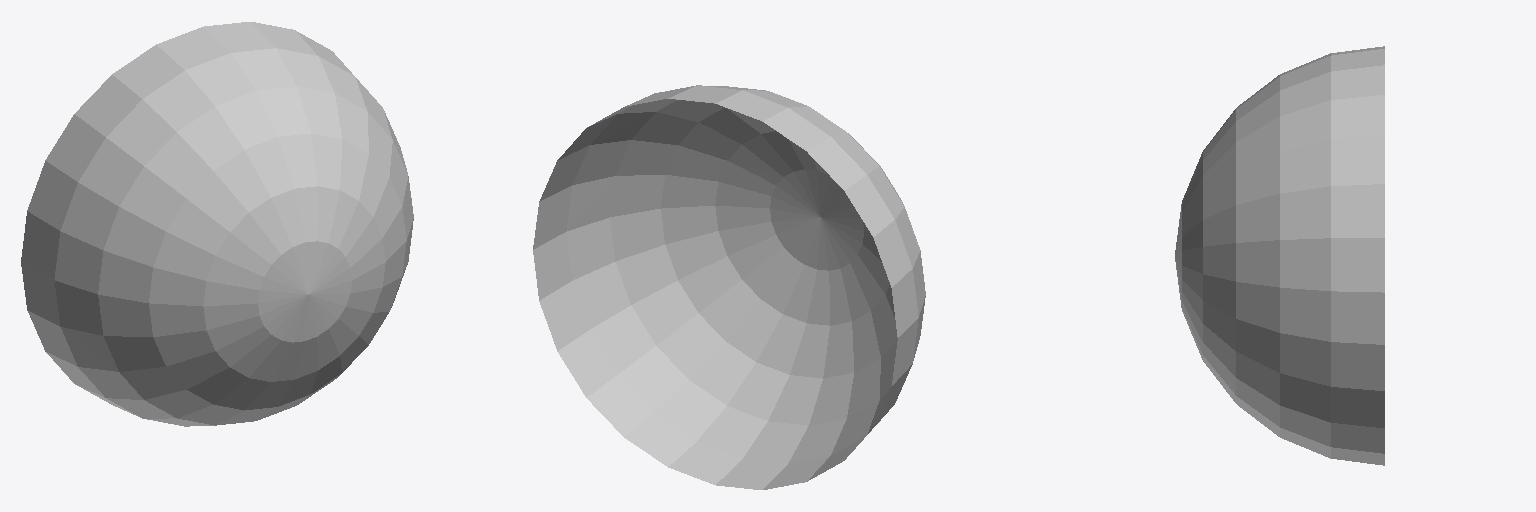
Rendered from eye.obj.
3 renders of one model, left to right at view 1: azimuth 30°, elevation 25°; view 2: azimuth 150°, elevation 25°; view 3: azimuth 270°, elevation 25°, orthographic.
Visible parts, largest first — view 1: unnamed_object1; view 2: unnamed_object1; view 3: unnamed_object1.
Boxes of the visible parts, box(x1,y1,x2,y2) form: unnamed_object1: box(21, 22, 413, 426); unnamed_object1: box(533, 85, 925, 489); unnamed_object1: box(1175, 46, 1384, 465).
Bounding box in the file's own units: 2.5 × 2.5 × 1.25.